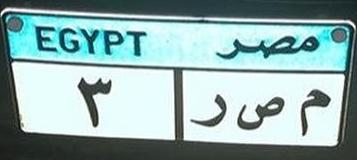3: (73, 72, 115, 128)
meem: (292, 84, 330, 140)
raa: (187, 89, 227, 134)
saad: (233, 90, 284, 135)
